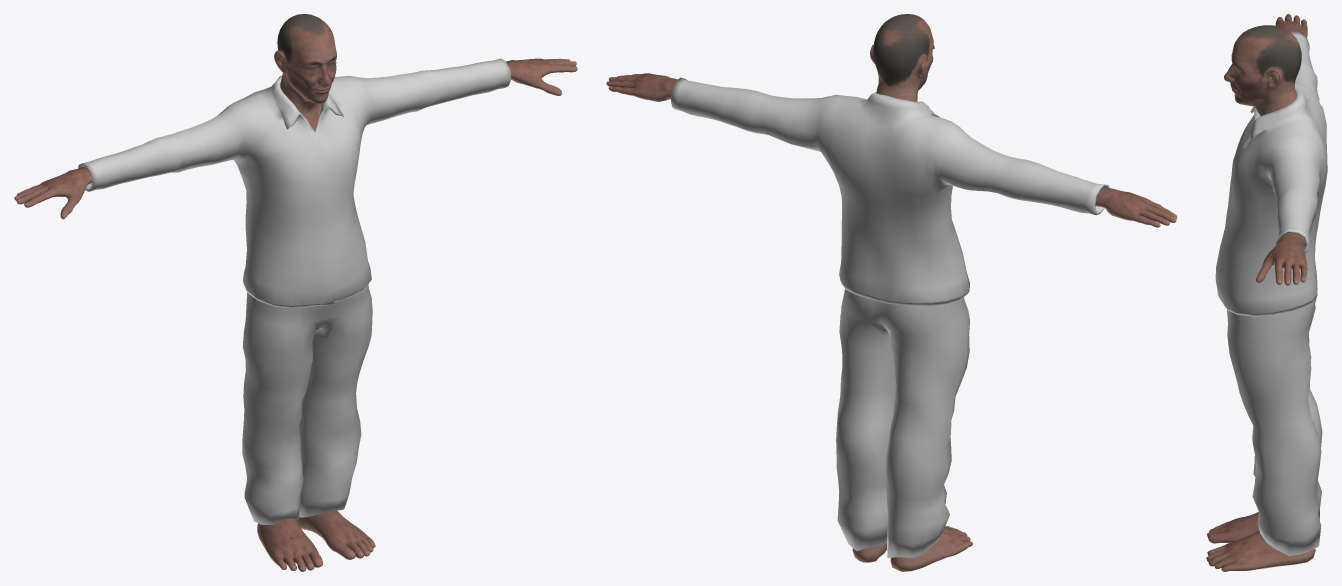
The model's file is man1.obj.
The picture shows the model from 3 angles, left to right: view 1: azimuth 30°, elevation 25°; view 2: azimuth 150°, elevation 25°; view 3: azimuth 270°, elevation 25°; orthographic projection. The views are drawn at different scales.
Visible parts, largest first — view 1: Tops, Bottoms, Body; view 2: Tops, Bottoms, Body; view 3: Tops, Bottoms, Body.
Boxes of the visible parts, bbox=[...] form: Tops: bbox=[78, 58, 511, 308]; Bottoms: bbox=[242, 284, 372, 524]; Body: bbox=[14, 14, 577, 571]; Tops: bbox=[670, 77, 1109, 305]; Bottoms: bbox=[836, 289, 969, 557]; Body: bbox=[606, 14, 1177, 571]; Tops: bbox=[1215, 31, 1327, 316]; Bottoms: bbox=[1227, 292, 1322, 555]; Body: bbox=[1206, 14, 1315, 571].
Size of the model in its own units: 193 by 174 by 36.51.
